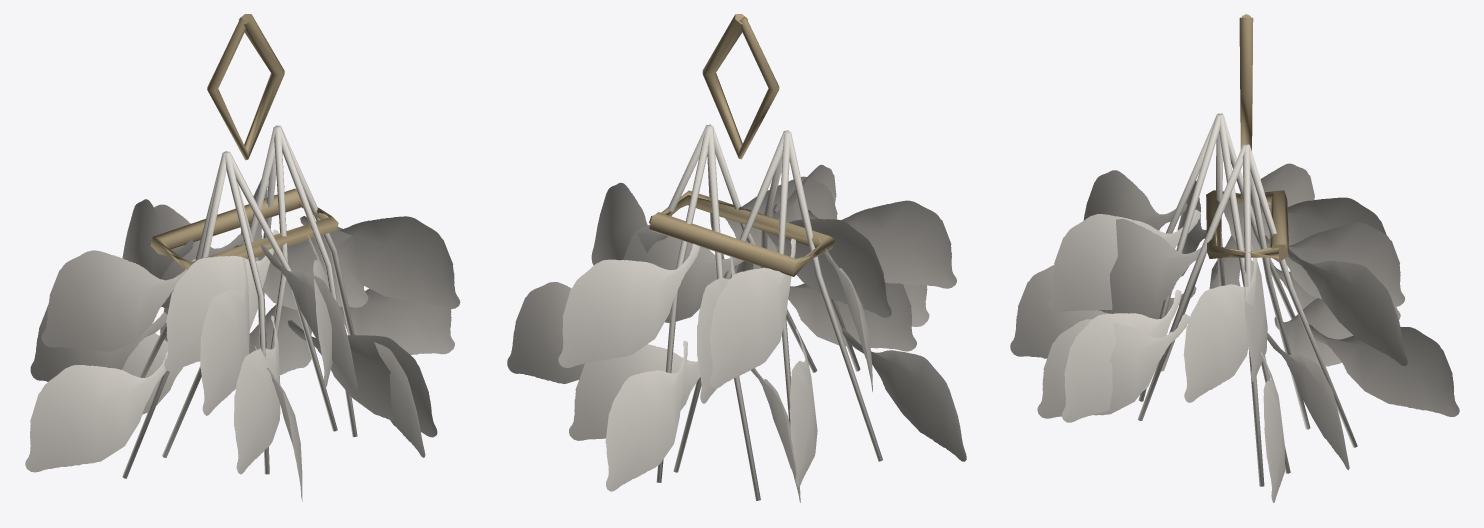
Rendered from CM_BotanicalPlanterKit01_Hanging_Sage_Reduced.fbx.
3 views of the same model, side by side, from view 1: azimuth 30°, elevation 25°; view 2: azimuth 150°, elevation 25°; view 3: azimuth 270°, elevation 25° (orthographic). The views are drawn at different scales.
Parts seen in each view (by area): view 1: CM_BotanicalPlanterKit01_Hanging_Sage_FoliageDry, CM_BotanicalPlanterKit01_Hanging_Sage_Twine; view 2: CM_BotanicalPlanterKit01_Hanging_Sage_FoliageDry, CM_BotanicalPlanterKit01_Hanging_Sage_Twine; view 3: CM_BotanicalPlanterKit01_Hanging_Sage_FoliageDry, CM_BotanicalPlanterKit01_Hanging_Sage_Twine.
Part boxes in pixels (x1=…): CM_BotanicalPlanterKit01_Hanging_Sage_FoliageDry: x1=25, y1=125, x2=460, y2=501; CM_BotanicalPlanterKit01_Hanging_Sage_Twine: x1=150, y1=14, x2=338, y2=269; CM_BotanicalPlanterKit01_Hanging_Sage_FoliageDry: x1=507, y1=124, x2=966, y2=502; CM_BotanicalPlanterKit01_Hanging_Sage_Twine: x1=649, y1=14, x2=835, y2=276; CM_BotanicalPlanterKit01_Hanging_Sage_FoliageDry: x1=1010, y1=113, x2=1459, y2=502; CM_BotanicalPlanterKit01_Hanging_Sage_Twine: x1=1206, y1=14, x2=1288, y2=262.
Bounding box in the file's own units: 0.3949 × 0.3697 × 0.3585.
